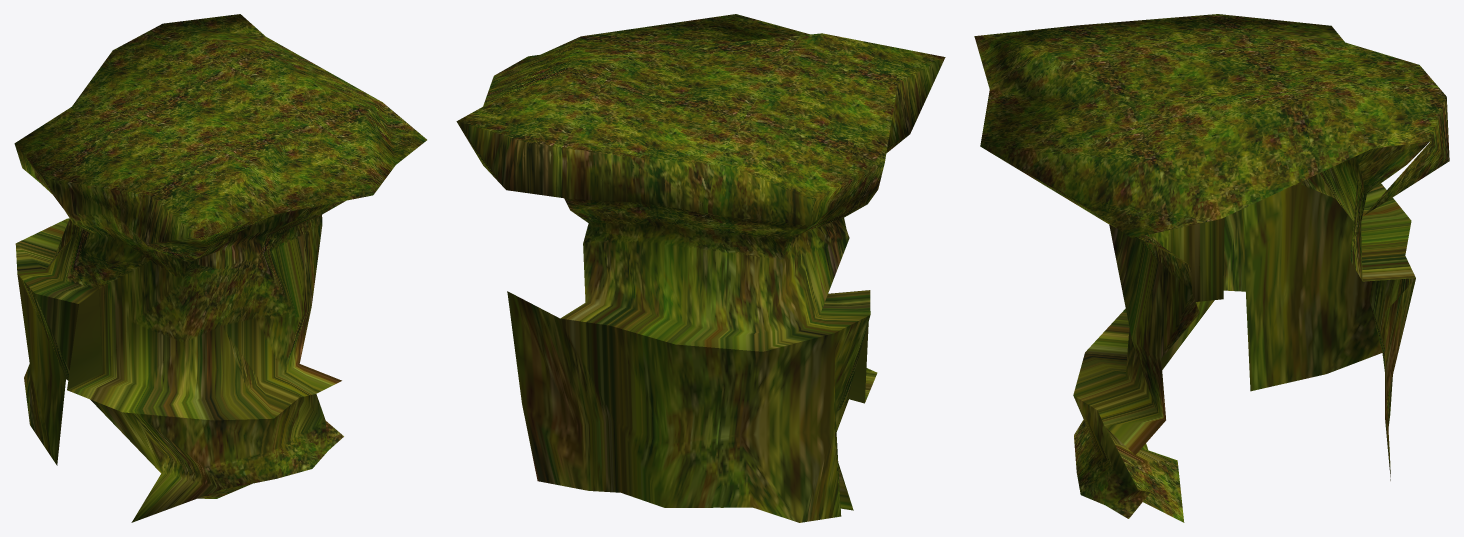
File: TROLLHOLE02_RM_PSURF90.fbx
3 renders of one model, left to right at view 1: azimuth 30°, elevation 25°; view 2: azimuth 150°, elevation 25°; view 3: azimuth 270°, elevation 25°, orthographic. The views are drawn at different scales.
Visible parts, largest first — view 1: TROLLHOLE02_RM_PSURF90; view 2: TROLLHOLE02_RM_PSURF90; view 3: TROLLHOLE02_RM_PSURF90.
Part boxes in pixels (x1=…): TROLLHOLE02_RM_PSURF90: x1=14, y1=14, x2=426, y2=522; TROLLHOLE02_RM_PSURF90: x1=456, y1=14, x2=945, y2=522; TROLLHOLE02_RM_PSURF90: x1=974, y1=14, x2=1449, y2=522.
Size of the model in its own units: 103370 by 112308 by 102675.
1 material, 1 textured.
